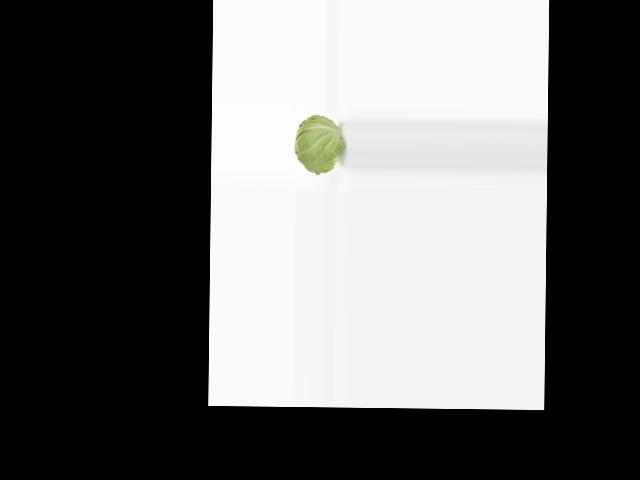lettuce: (293, 111, 339, 176)
